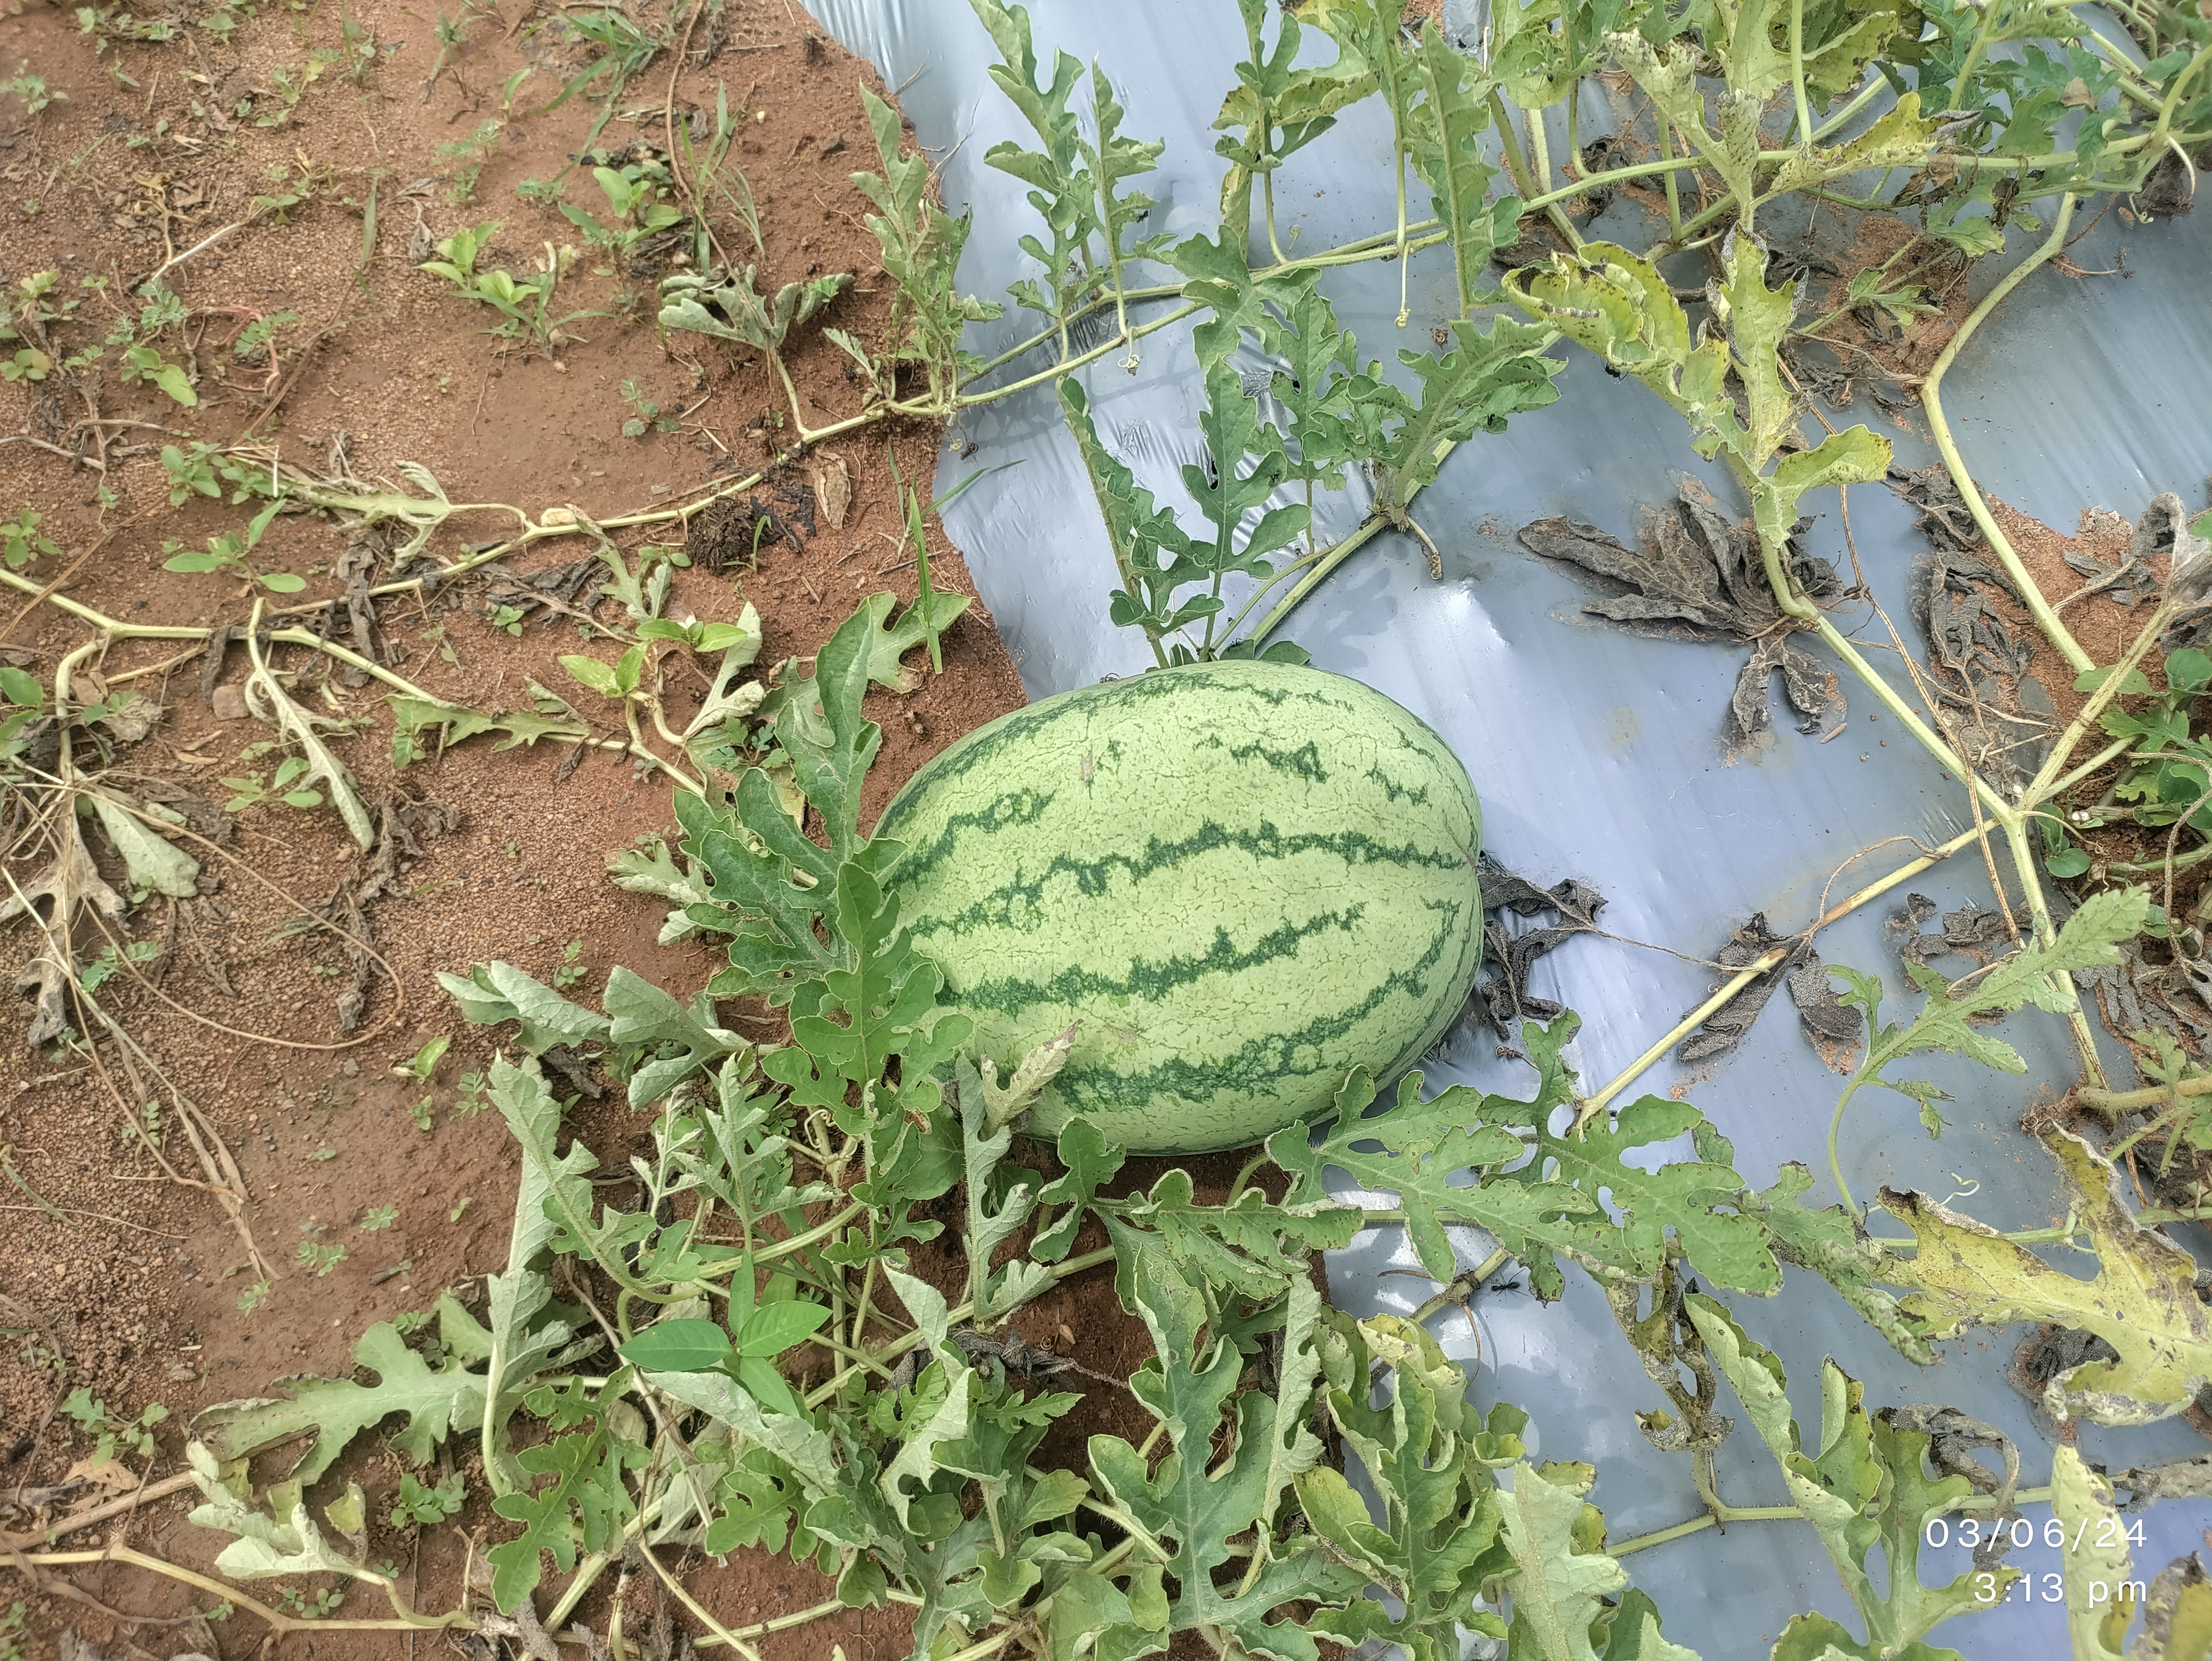good-to-harvest: (780, 623, 1568, 1169)
